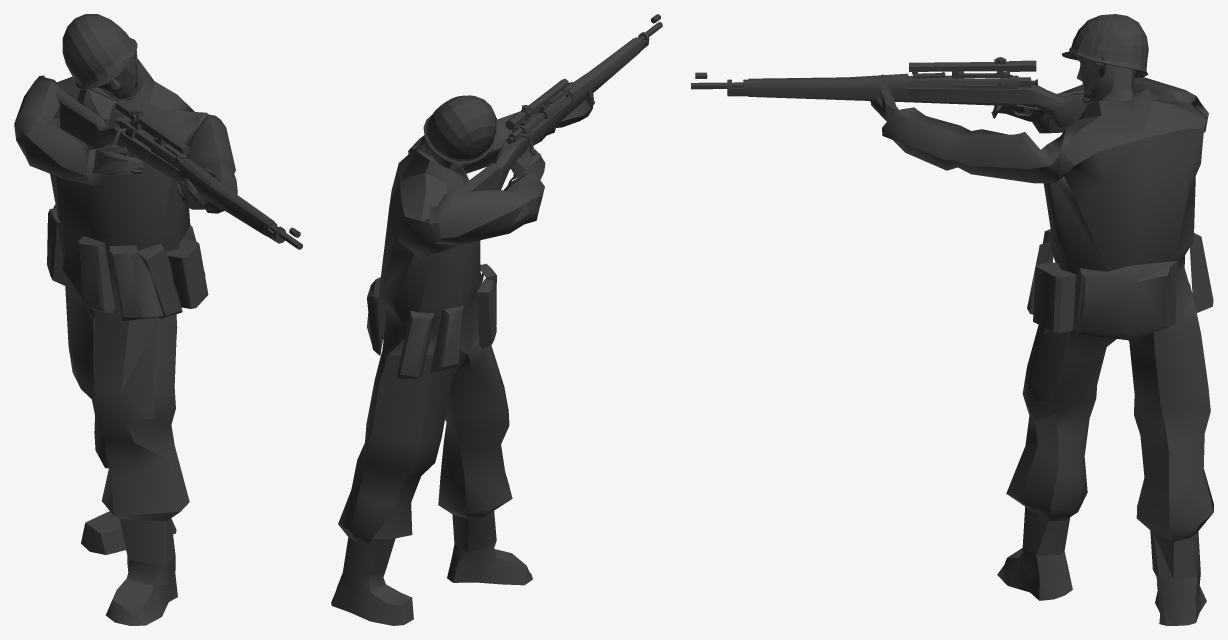
Rendered from us_garand_piedi.glb.
The picture shows the model from 3 angles, left to right: view 1: azimuth 30°, elevation 25°; view 2: azimuth 150°, elevation 25°; view 3: azimuth 270°, elevation 25°; orthographic projection. The views are drawn at different scales.
Visible parts, largest first — view 1: Object.004_Object.017_2; view 2: Object.004_Object.017_2; view 3: Object.004_Object.017_2.
Part boxes in pixels (<box>): Object.004_Object.017_2: <box>14,14,302,625</box>; Object.004_Object.017_2: <box>331,14,662,625</box>; Object.004_Object.017_2: <box>691,14,1213,625</box>.
Size of the model in its own units: 0.1708 by 0.5 by 0.4225.
Materials: 1 (1 with a texture image).
